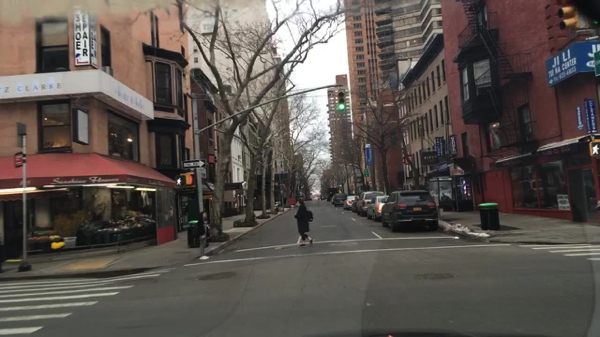car: (380, 190, 439, 232), (355, 191, 383, 217), (366, 195, 391, 221), (342, 194, 359, 211), (332, 194, 346, 206), (327, 188, 337, 202), (317, 197, 325, 200)
person: (292, 198, 314, 247), (196, 211, 210, 262)
traffic light: (557, 0, 579, 32), (182, 171, 193, 190), (588, 140, 599, 157), (337, 91, 345, 111), (174, 176, 184, 189), (338, 183, 341, 190), (300, 183, 302, 192)
traffic sign: (181, 160, 206, 169), (593, 52, 598, 79), (15, 152, 24, 166), (17, 122, 26, 134), (199, 170, 207, 180), (17, 136, 22, 149), (362, 170, 367, 178)
